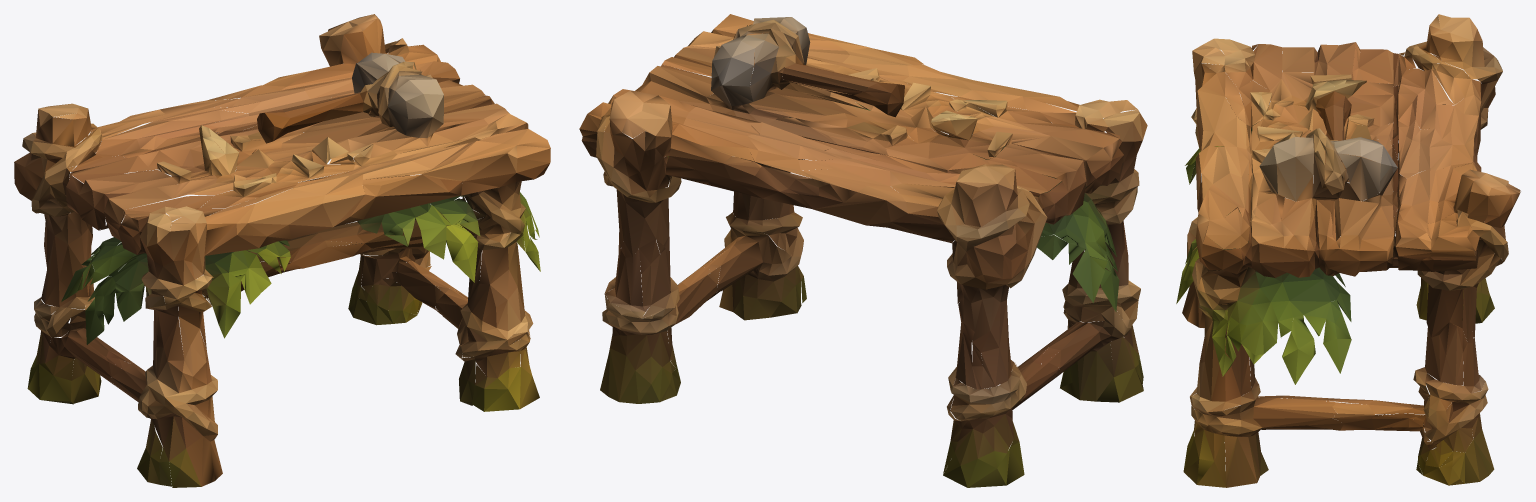
File: building-workbench.glb
3 views of the same model, side by side, from view 1: azimuth 30°, elevation 25°; view 2: azimuth 150°, elevation 25°; view 3: azimuth 270°, elevation 25° (orthographic). The views are drawn at different scales.
Visible parts, largest first — view 1: 0_workbench; view 2: 0_workbench; view 3: 0_workbench.
Boxes of the visible parts, <box> form: 0_workbench: <box>14,14,550,487</box>; 0_workbench: <box>579,14,1147,487</box>; 0_workbench: <box>1176,14,1520,487</box>.
Bounding box in the file's own units: 1.83 × 1.25 × 1.24.
